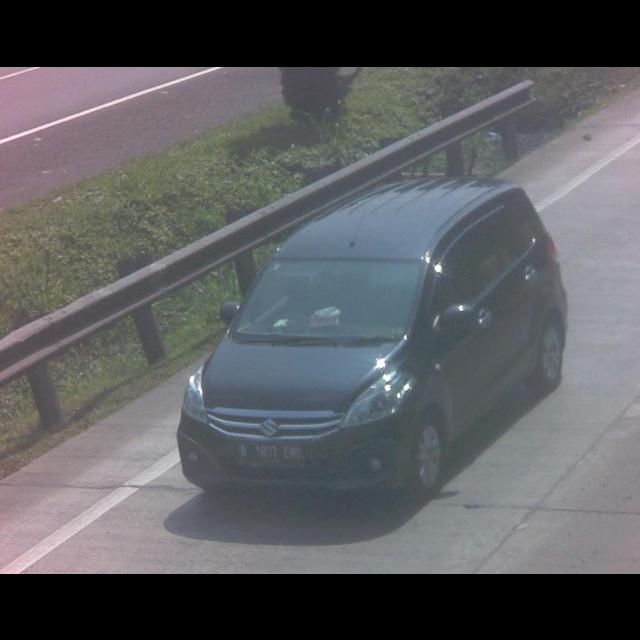plate: (234, 441, 304, 465)
